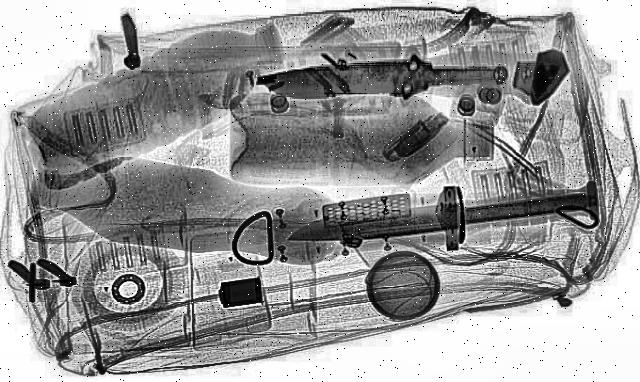Knife: (274, 169, 600, 267), (254, 46, 511, 106)
